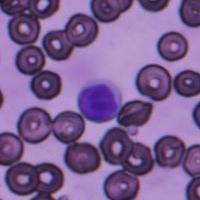L: (77, 78, 122, 122)
